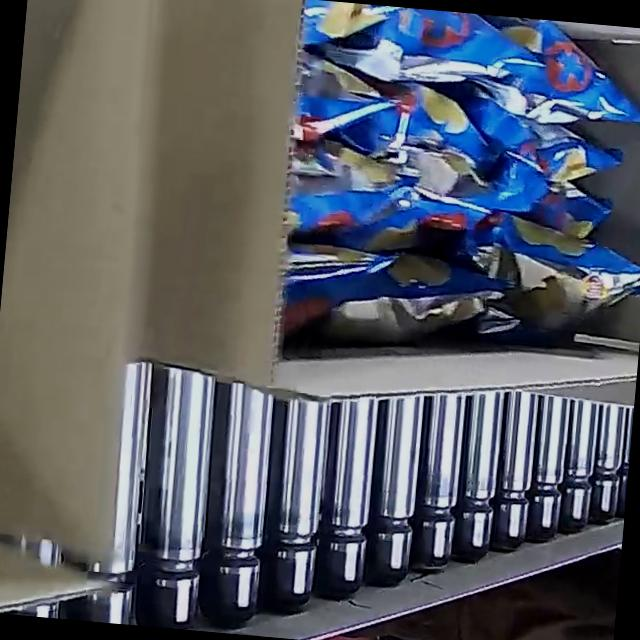paprika: (273, 0, 640, 365)
